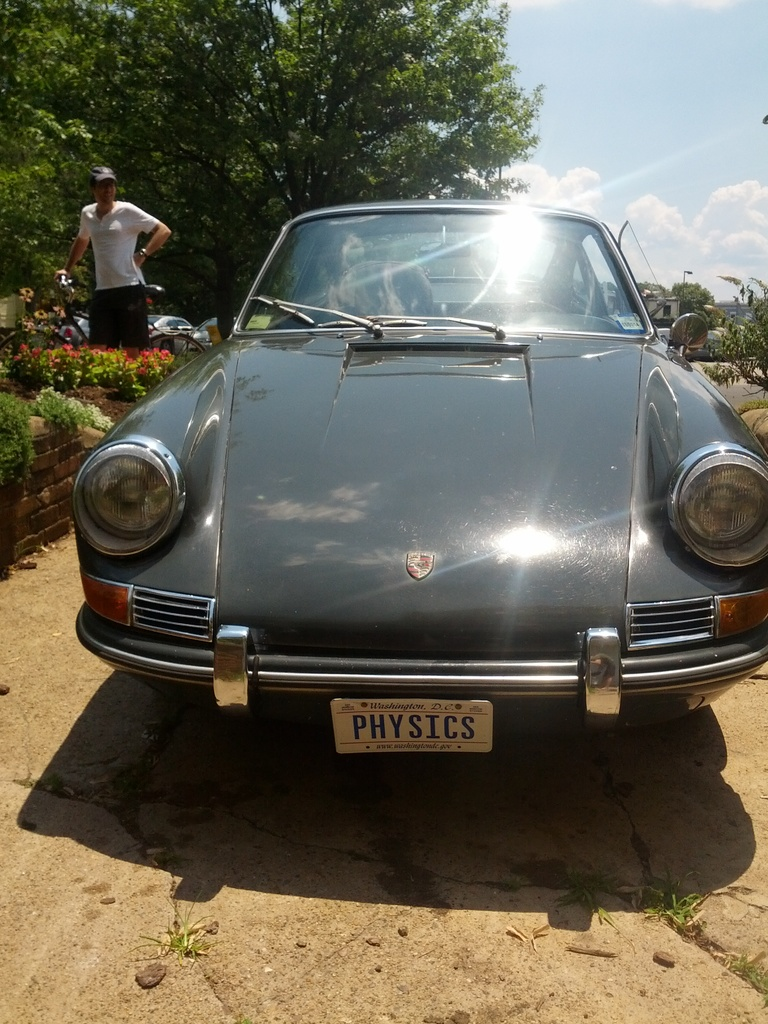Tree: (0, 0, 548, 338)
